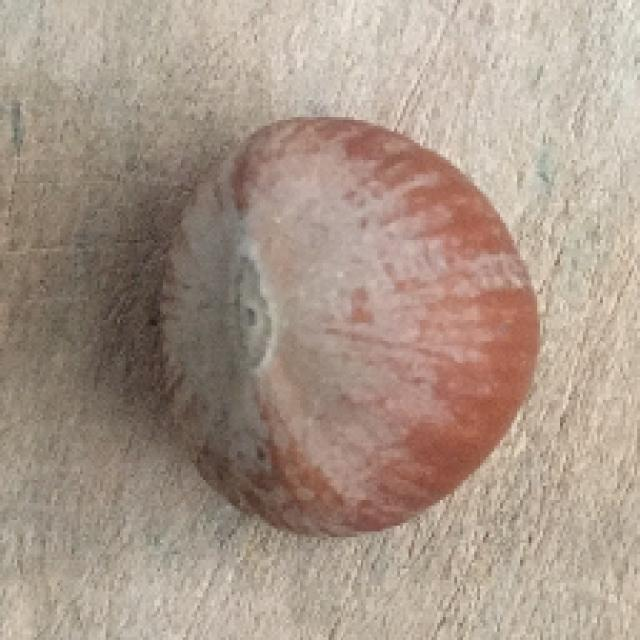qualityHazelnut: (156, 115, 542, 548)
